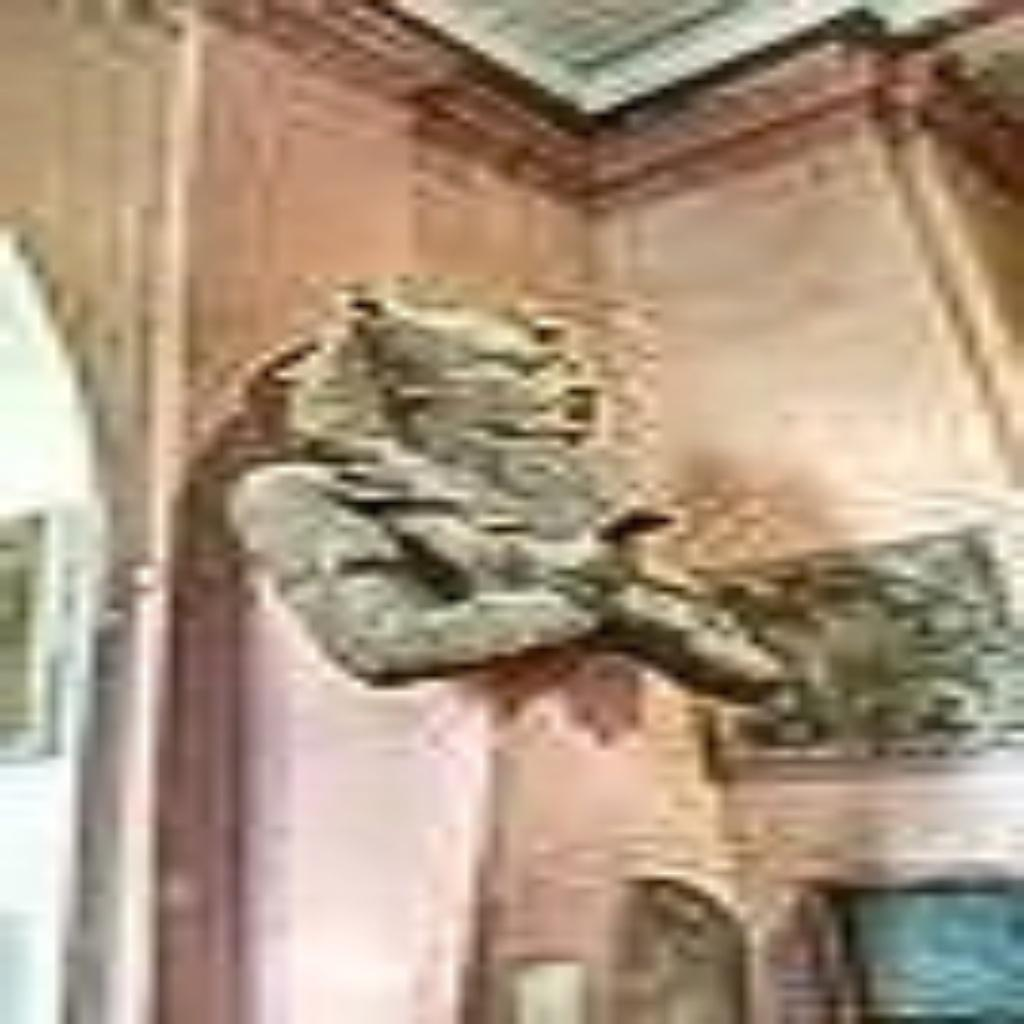Akhenaten: (214, 267, 810, 714)
